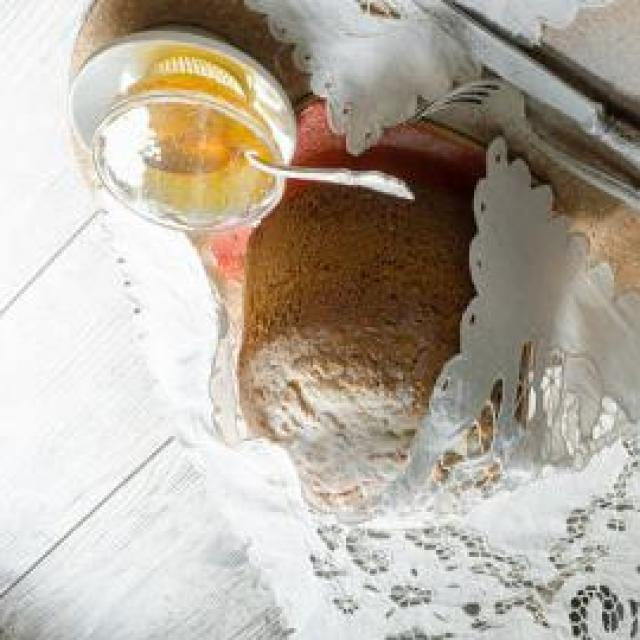knife: (393, 0, 640, 183)
